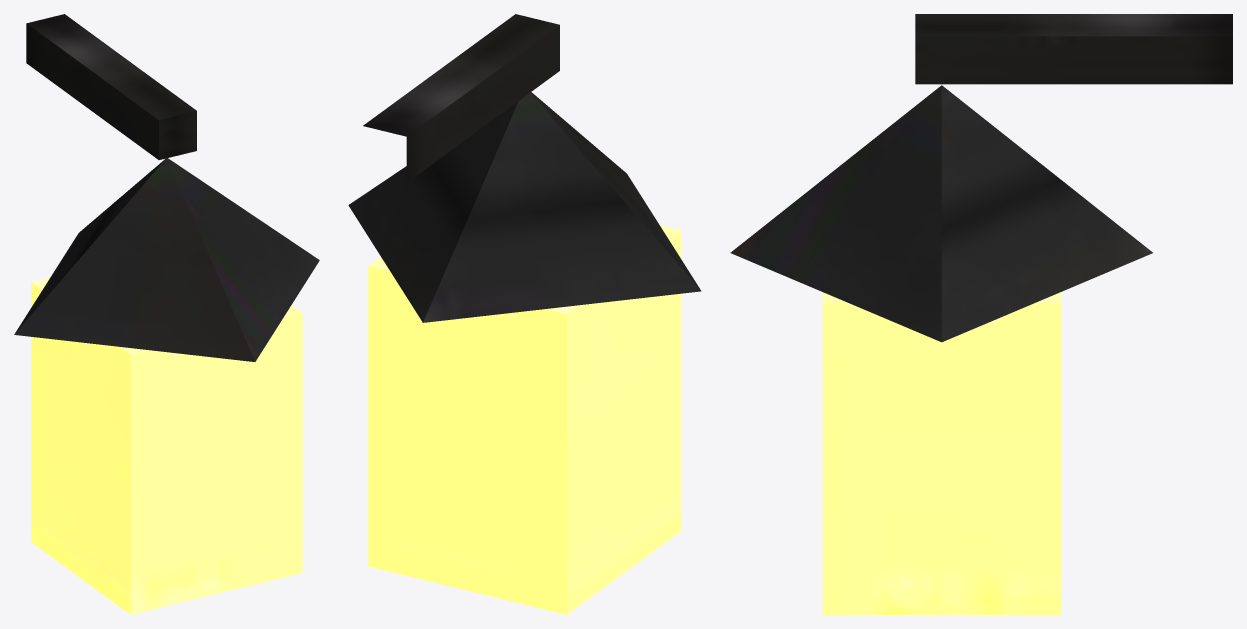
File: wall_lantern.glb
The picture shows the model from 3 angles, left to right: view 1: azimuth 30°, elevation 25°; view 2: azimuth 150°, elevation 25°; view 3: azimuth 270°, elevation 25°; orthographic projection. The views are drawn at different scales.
Parts seen in each view (by area): view 1: props_0_0; view 2: props_0_0; view 3: props_0_0.
Part boxes in pixels (<box>): props_0_0: <box>14,14,319,614</box>; props_0_0: <box>348,14,701,614</box>; props_0_0: <box>730,14,1232,614</box>.
Bounding box in the file's own units: 0.32 × 0.45 × 0.38.
2 materials, 2 textured.
